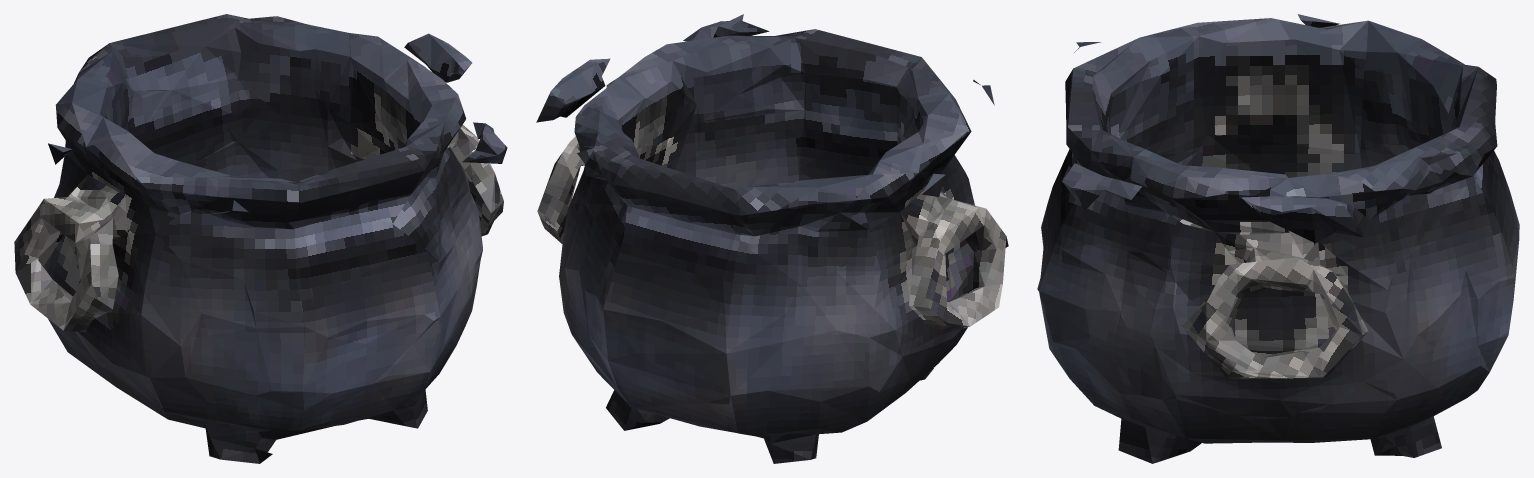
Rendered from cauldron.glb.
3 views of the same model, side by side, from view 1: azimuth 30°, elevation 25°; view 2: azimuth 150°, elevation 25°; view 3: azimuth 270°, elevation 25° (orthographic). The views are drawn at different scales.
Visible parts, largest first — view 1: cauldron; view 2: cauldron; view 3: cauldron.
Part boxes in pixels (x1=…): cauldron: x1=14, y1=14, x2=507, y2=463; cauldron: x1=536, y1=14, x2=1008, y2=463; cauldron: x1=1037, y1=14, x2=1519, y2=463.
Size of the model in its own units: 0.823 by 0.5377 by 0.7475.
Materials: 1 (1 with a texture image).
